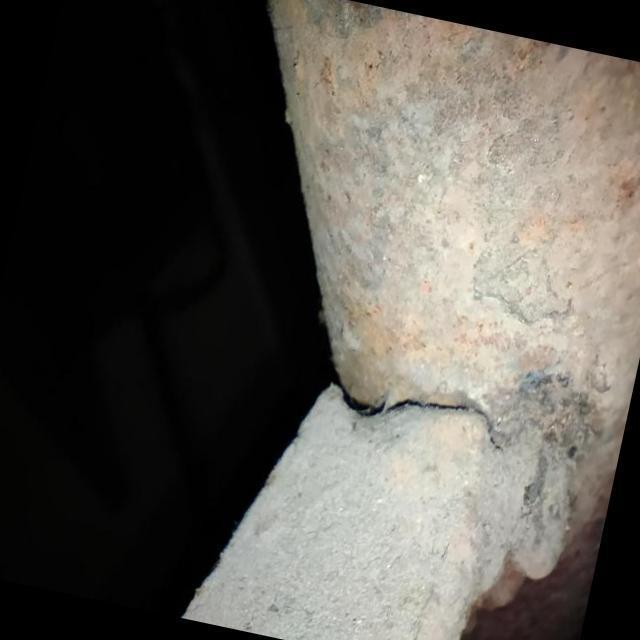defect: (327, 372, 503, 451)
